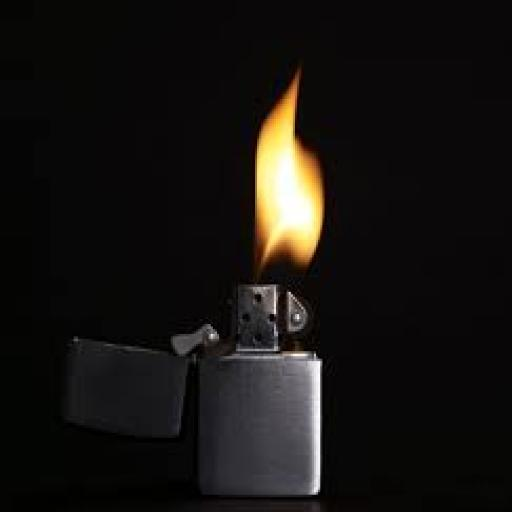fire: (238, 67, 352, 287)
